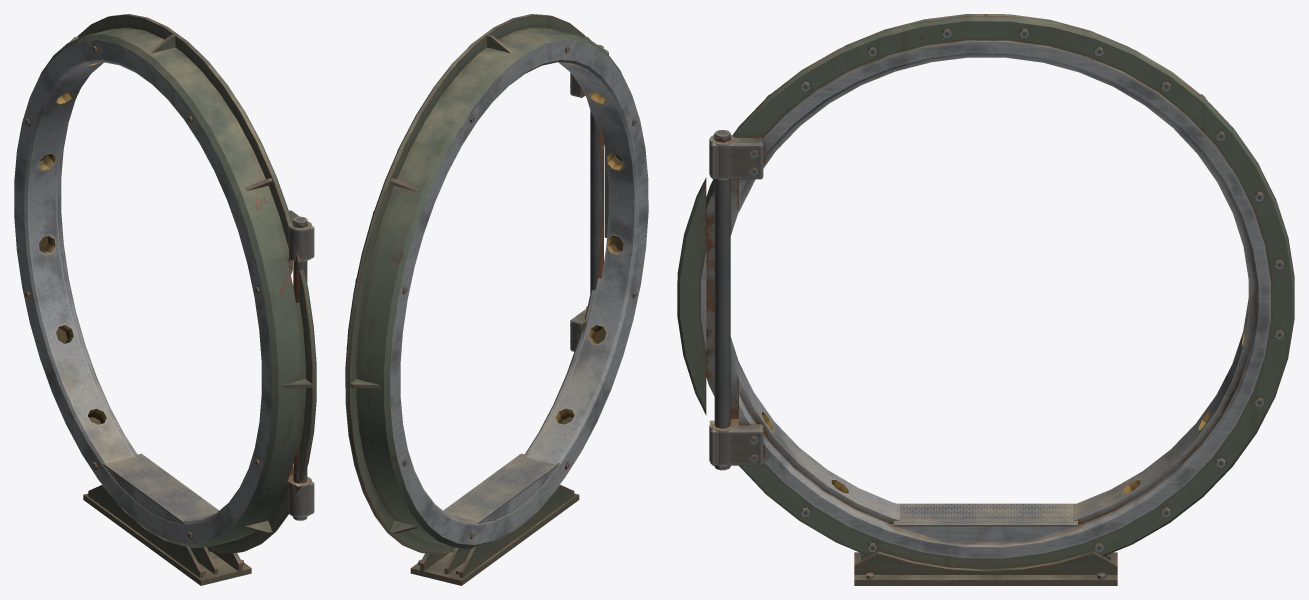
File: SM_VaultDoorFrame.fbx
The picture shows the model from 3 angles, left to right: view 1: azimuth 30°, elevation 25°; view 2: azimuth 150°, elevation 25°; view 3: azimuth 270°, elevation 25°; orthographic projection. The views are drawn at different scales.
Parts seen in each view (by area): view 1: SM_VaultDoorFrame; view 2: SM_VaultDoorFrame; view 3: SM_VaultDoorFrame.
Part boxes in pixels (box(x1,y1,x2,y2)): SM_VaultDoorFrame: box(14, 14, 316, 585); SM_VaultDoorFrame: box(345, 14, 648, 585); SM_VaultDoorFrame: box(677, 14, 1294, 585).
Size of what is drawn, in the model's own units: 51.7 by 469 by 469.
Materials: 1 (1 with a texture image).
